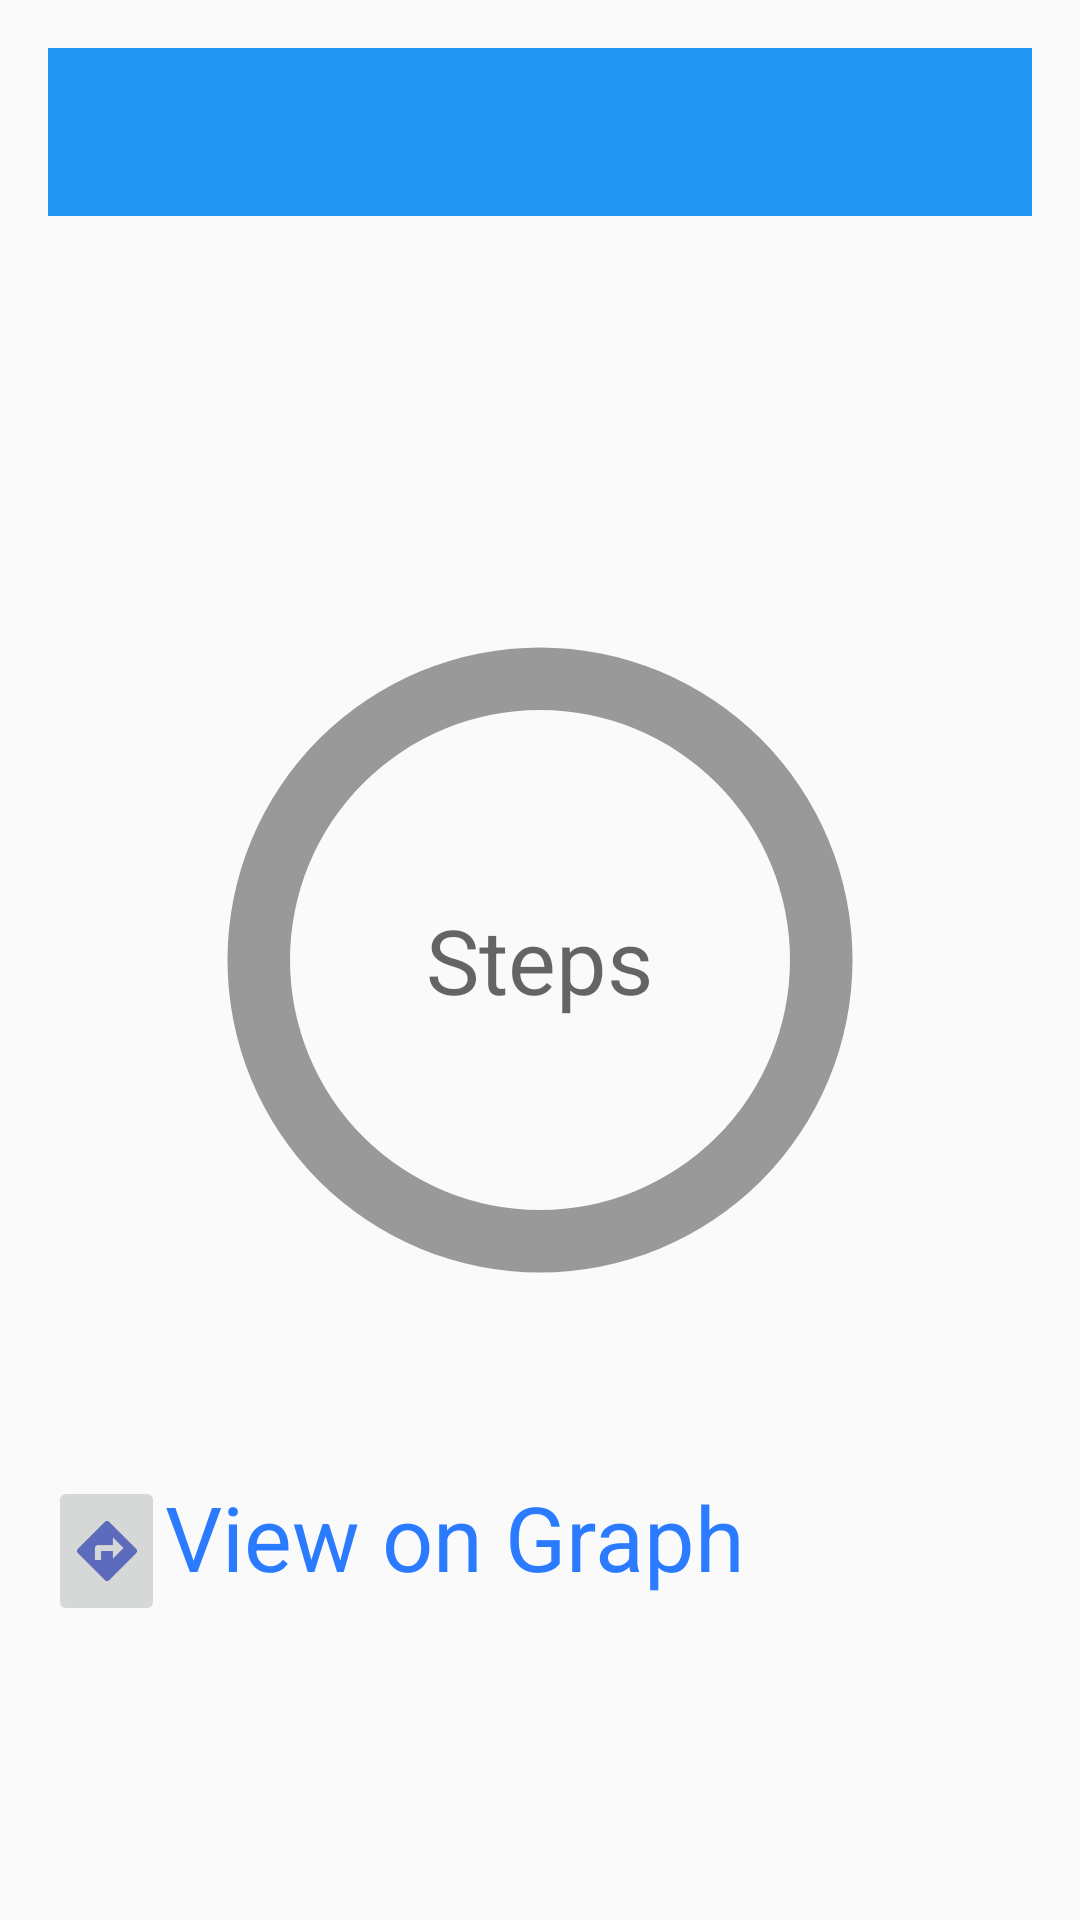

Point at icon controls on the screen. Image size 1080px×1920px, points as (x=x, y=y).
navigate: (x=106, y=1551)
